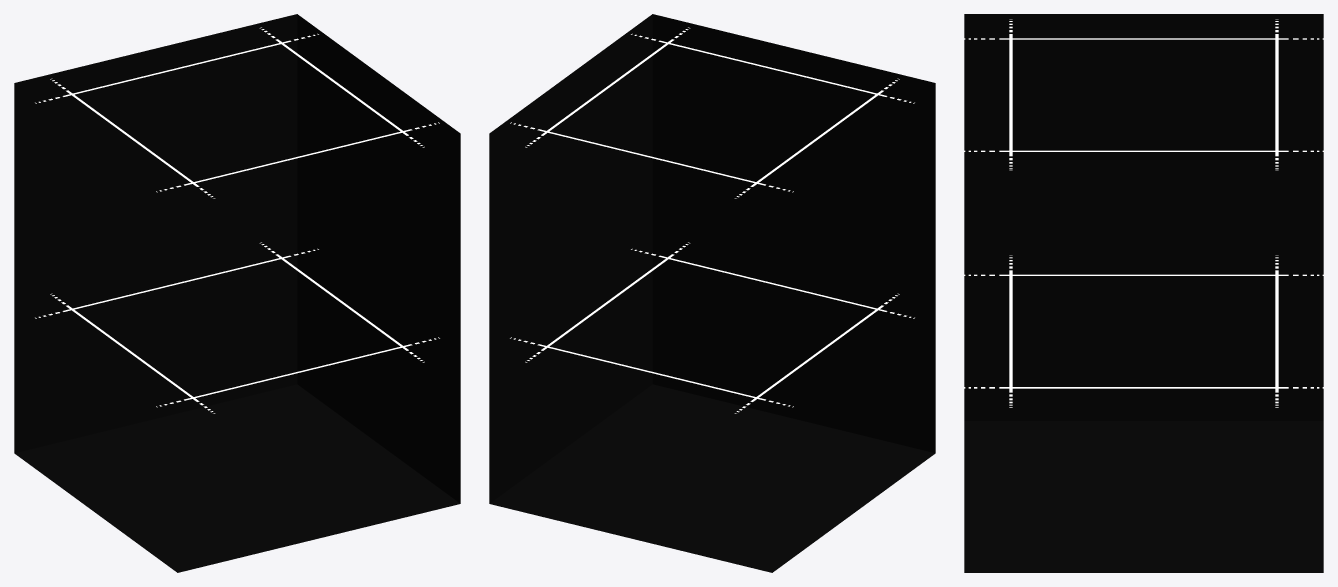
Rendered from cansy_cube_4.glb.
3 renders of one model, left to right at view 1: azimuth 30°, elevation 25°; view 2: azimuth 150°, elevation 25°; view 3: azimuth 270°, elevation 25°, orthographic. The views are drawn at different scales.
Visible parts, largest first — view 1: Background, Cube.002; view 2: Background, Cube.002; view 3: Background, Cube.002.
Part boxes in pixels (box(x1,y1,x2,y2)): Background: box(14, 14, 460, 572); Cube.002: box(35, 27, 439, 413); Background: box(489, 14, 935, 572); Cube.002: box(510, 27, 914, 413); Background: box(964, 14, 1323, 572); Cube.002: box(964, 19, 1323, 407).
Size of what is drawn, in the model's own units: 16 by 20 by 16.
2 materials, 2 textured.
